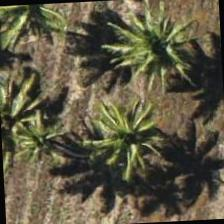Kelapa_Sawit: (71, 86, 166, 181), (106, 3, 200, 98), (0, 78, 58, 172), (0, 2, 79, 63)
